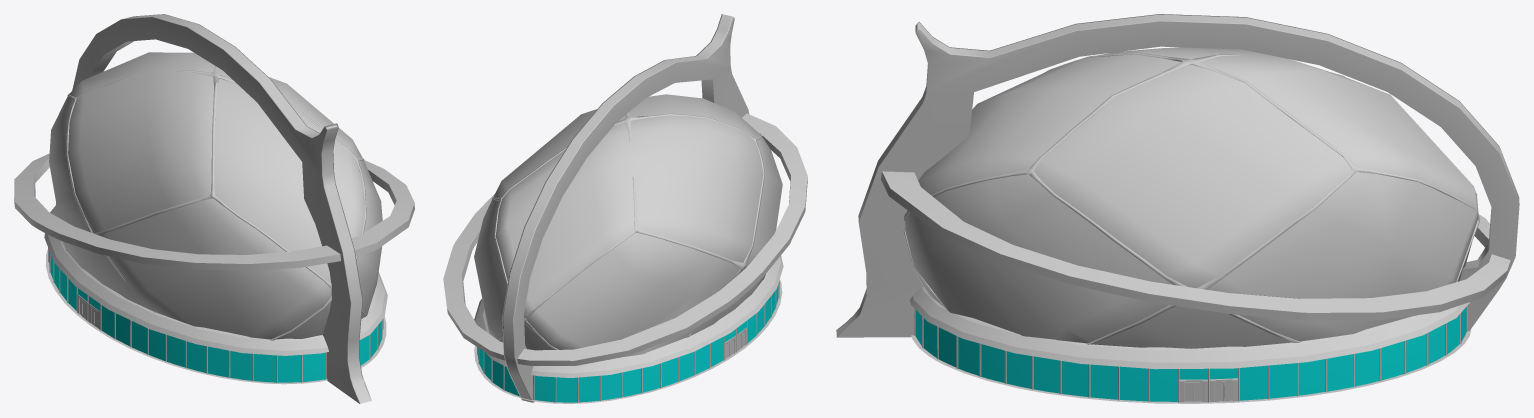
Rendered from Dome Interior.fbx.
3 renders of one model, left to right at view 1: azimuth 30°, elevation 25°; view 2: azimuth 150°, elevation 25°; view 3: azimuth 270°, elevation 25°, orthographic. The views are drawn at different scales.
Parts seen in each view (by area): view 1: Dome_Int, Black; view 2: Dome_Int, Black; view 3: Dome_Int, Black.
Boxes of the visible parts, x1=… form: Dome_Int: x1=44, y1=52, x2=387, y2=384; Black: x1=14, y1=14, x2=414, y2=403; Dome_Int: x1=474, y1=94, x2=783, y2=403; Black: x1=443, y1=14, x2=807, y2=402; Dome_Int: x1=903, y1=47, x2=1479, y2=403; Black: x1=836, y1=14, x2=1519, y2=362.
Bounding box in the file's own units: 4786 × 3927 × 7685.
